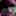with_mask: (2, 2, 16, 16)
